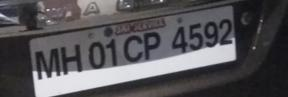0: (87, 40, 107, 68)
1: (104, 36, 120, 69)
2: (218, 19, 235, 47)
4: (169, 23, 190, 57)
5: (187, 20, 205, 52)
9: (202, 16, 220, 50)
C: (122, 32, 146, 63)
H: (60, 45, 85, 76)
M: (30, 43, 64, 83)
P: (143, 29, 162, 62)
